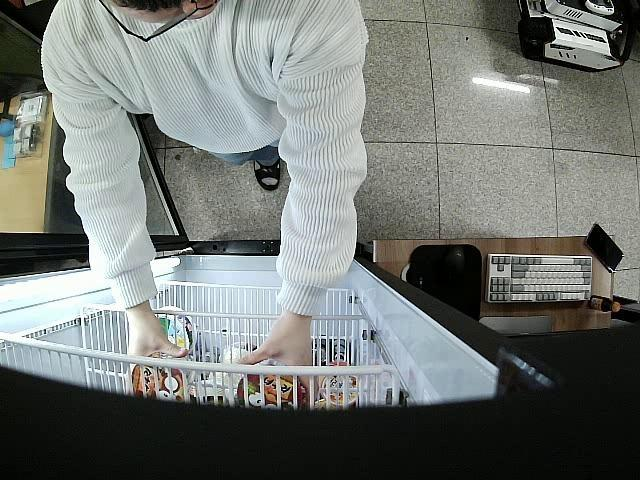06_nuguri_S: (132, 352, 191, 403), (235, 370, 309, 409)
